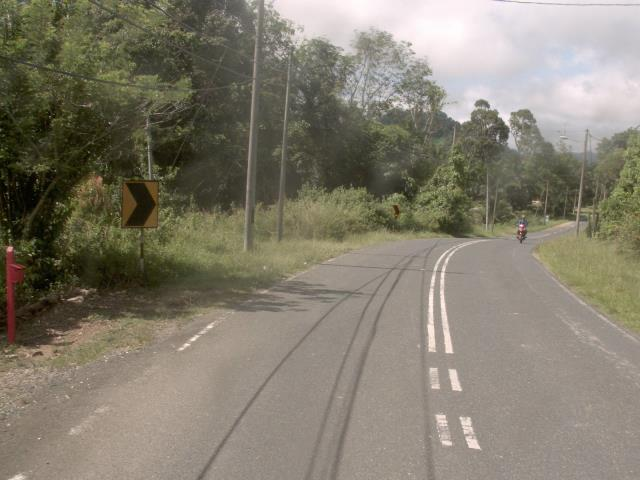traffic_sign: (113, 169, 168, 237)
